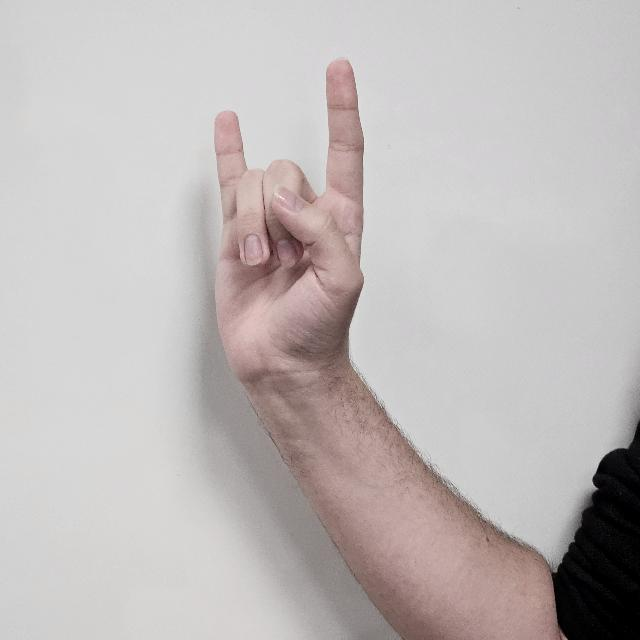L: (212, 54, 362, 410)
